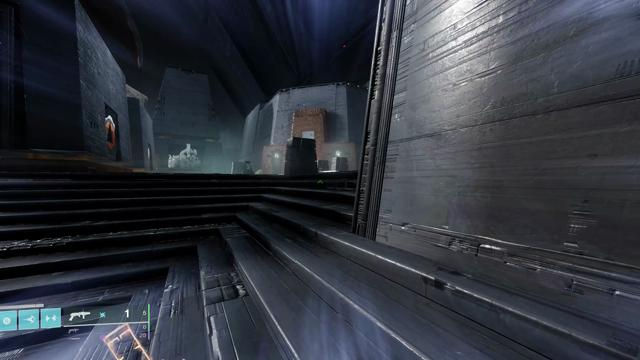pyramid: (105, 115, 116, 150)
